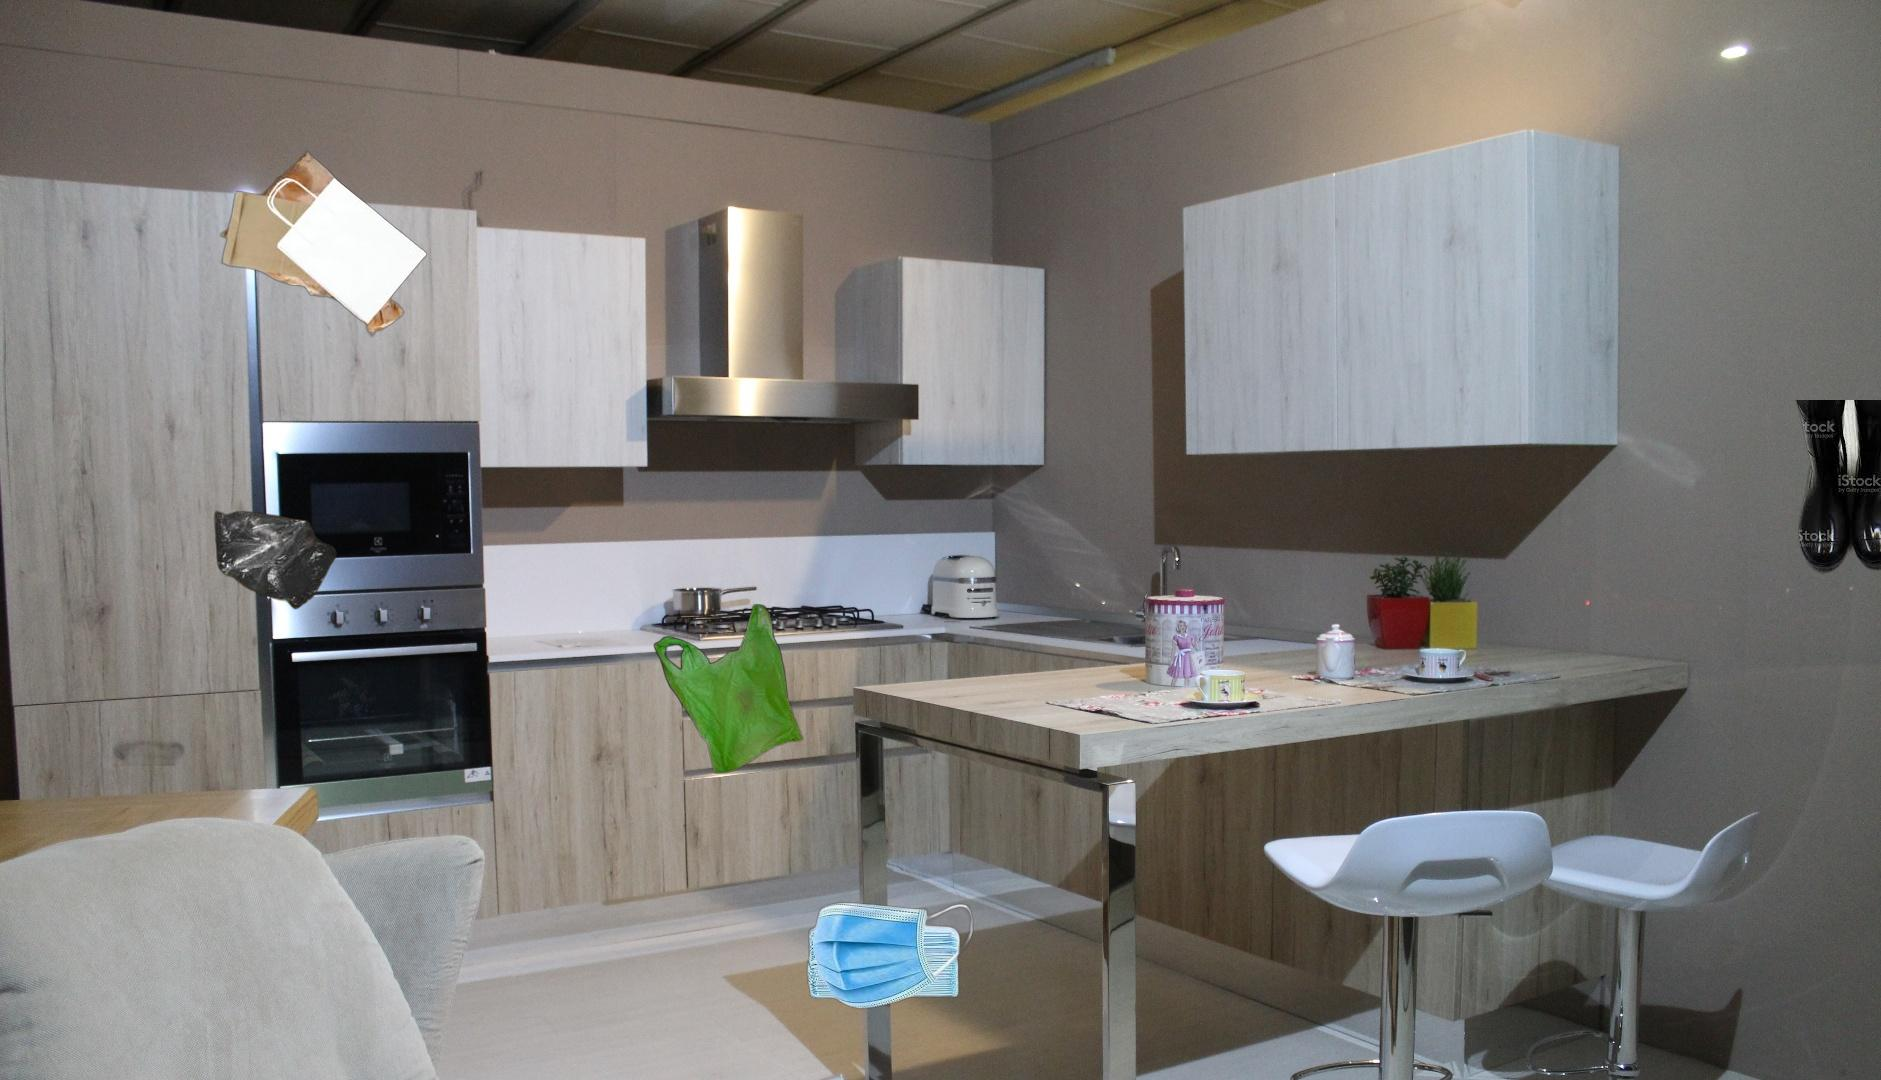paper: (1729, 517, 1881, 900)
paper-bag: (218, 150, 430, 338)
plastic-bag: (110, 508, 340, 766), (652, 602, 805, 776)
shoes: (1793, 400, 1881, 576)
trash: (804, 889, 975, 1012)
trashbox-cardboard: (1148, 309, 1660, 692)
